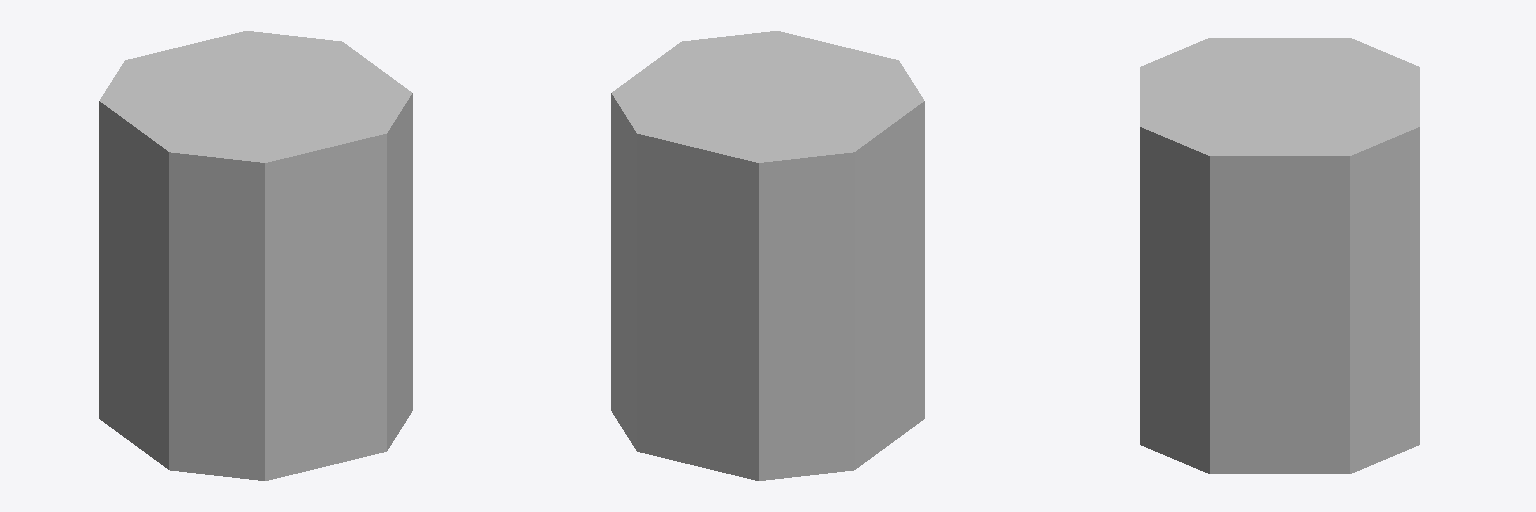
The model's file is support-single-middle.obj.
3 renders of one model, left to right at view 1: azimuth 30°, elevation 25°; view 2: azimuth 150°, elevation 25°; view 3: azimuth 270°, elevation 25°, orthographic.
Visible parts, largest first — view 1: support-single-middle; view 2: support-single-middle; view 3: support-single-middle.
Part boxes in pixels (x1,y1,x2,y2): support-single-middle: (99, 31, 412, 480); support-single-middle: (611, 31, 924, 480); support-single-middle: (1140, 38, 1419, 473).
Bounding box in the file's own units: 0.4 × 0.5 × 0.4.